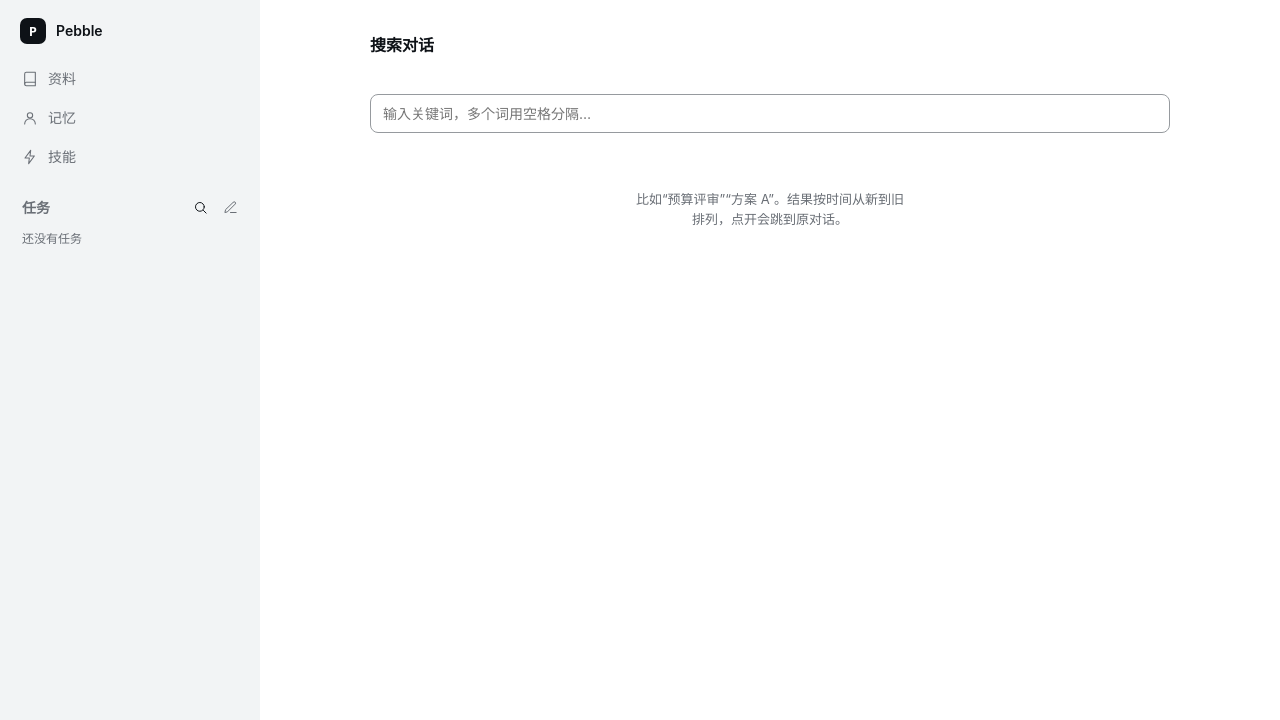
Scenario: 搜索历史对话，结果显示任务、说话方与片段，并链接到原对话的命中位置
The image size is (1280, 720).
Type "预算评审" into the search field named "搜索对话" at (770, 114), box [370, 94, 1170, 133]
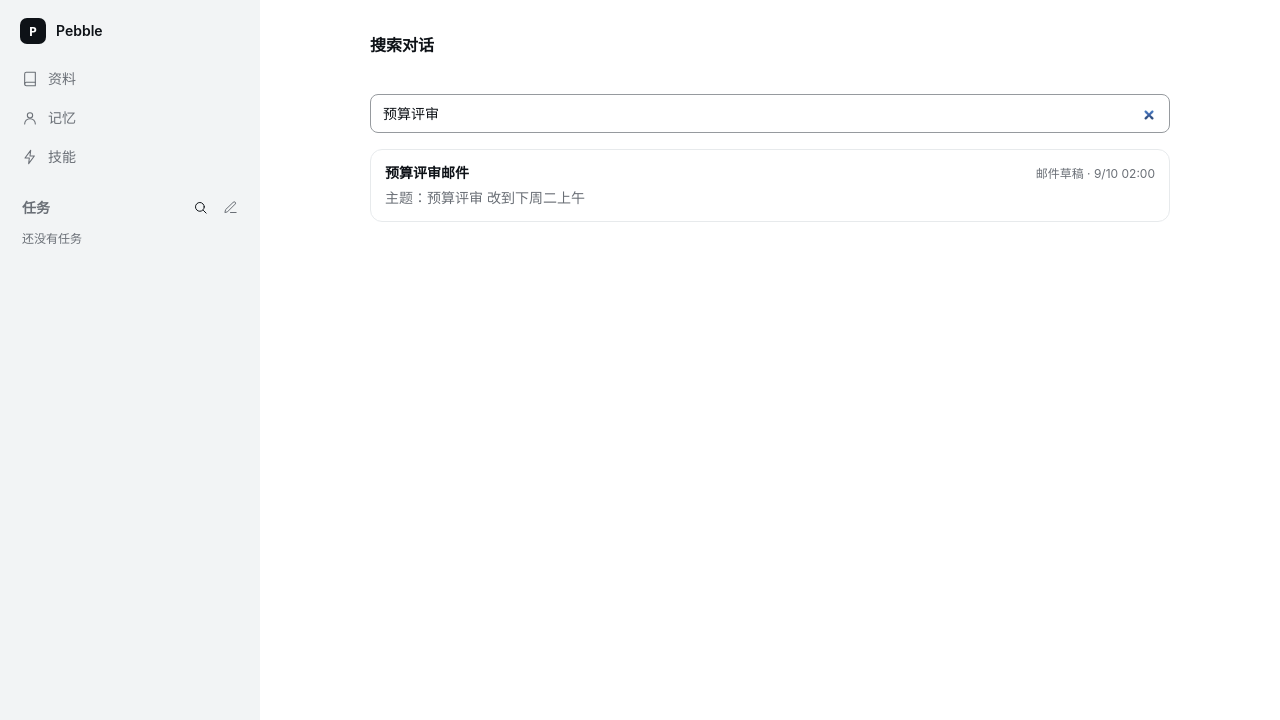
expect the link "预算评审邮件 邮件草稿 · 9/10 02:00 主题：预算评审 改到下周二上午" is shown: met, box [370, 149, 1170, 222]
